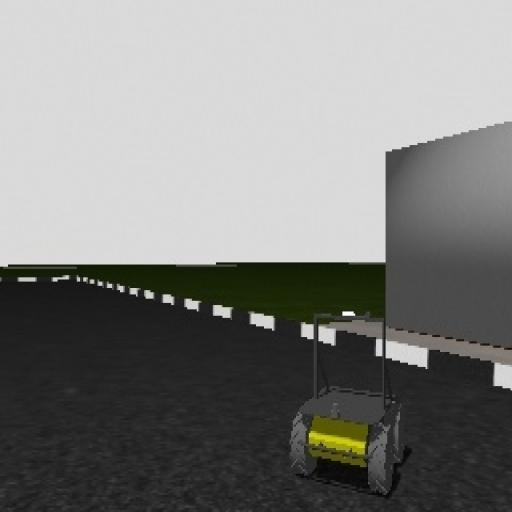huskya200: (296, 292, 408, 500)
